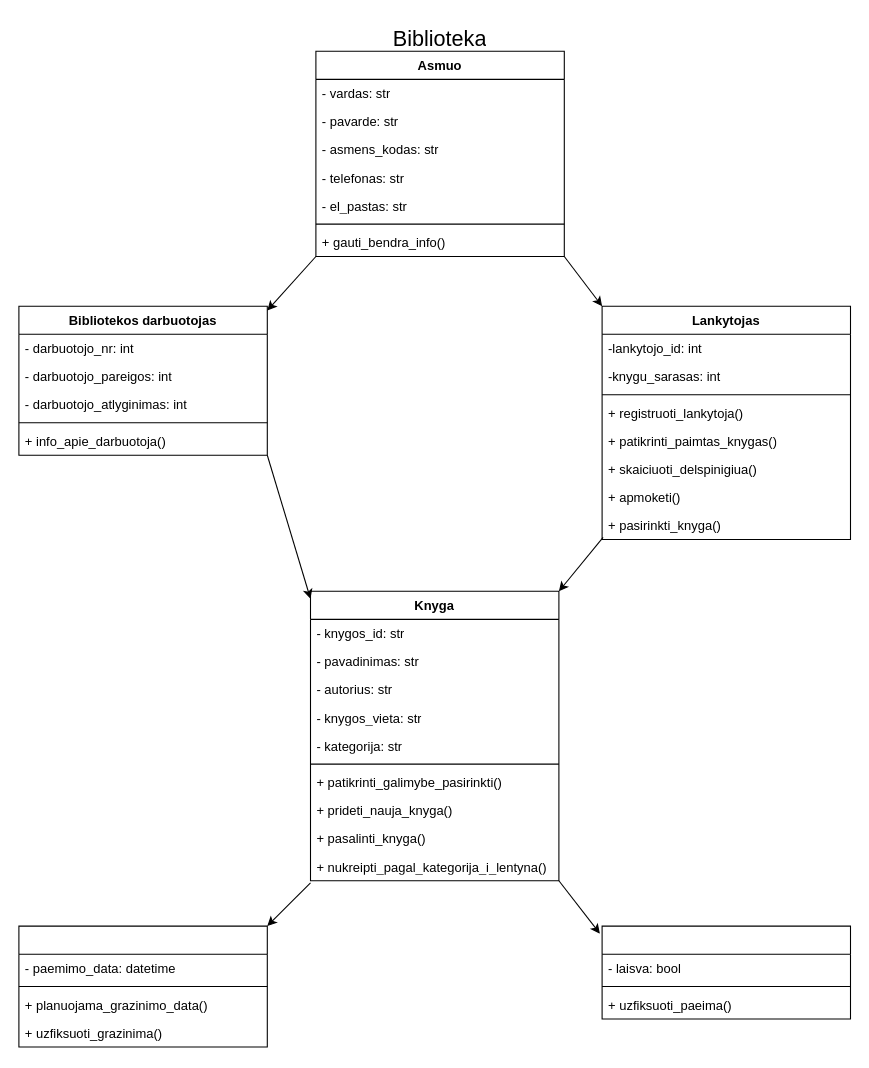
Image size: 869x1068. Some labels were removed from this diagram. Here are the shapes that lost their labels. From the top down, the box of each, then its label:
(18, 925, 267, 1047): Paskolintos knygos
(601, 925, 850, 1019): Esančios bibliotekoje
